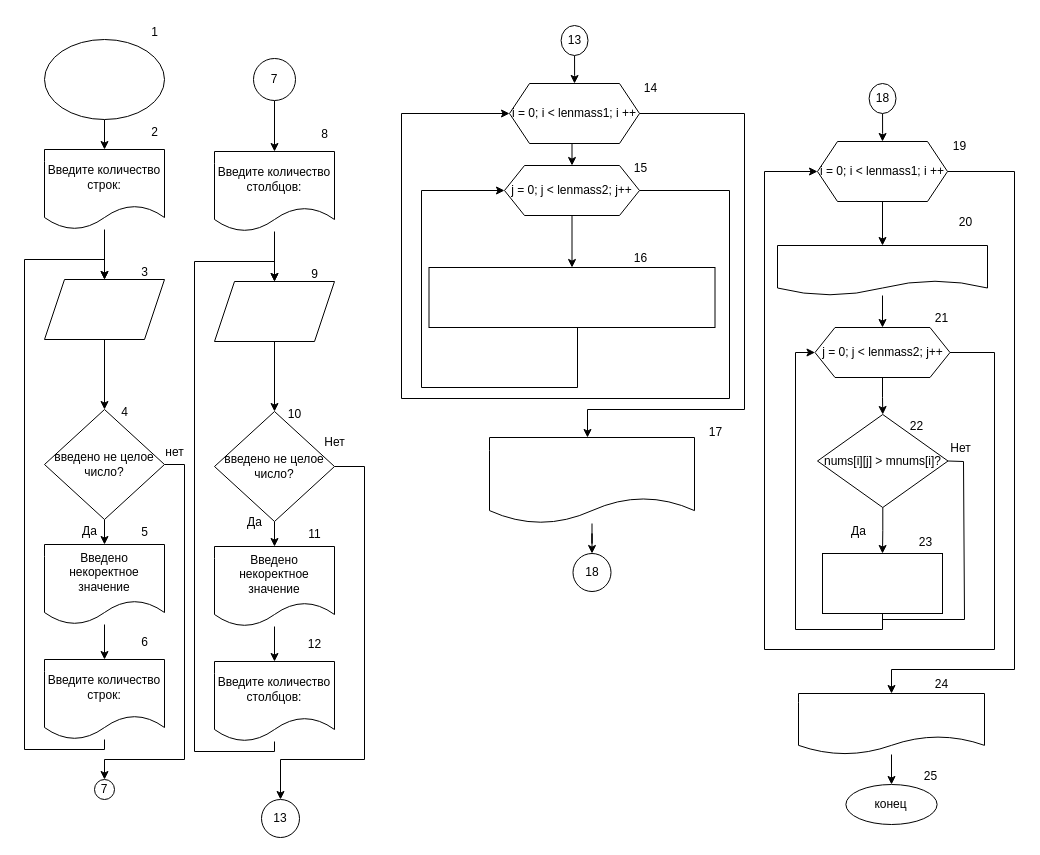
Some shapes in this 1040 by 855 pixel diagram are drawn without their labels. Here are the shapes that lost their labels. From the top down, the centre of each, then its label:
(104,79): Начало
(882,270): System.out.println(Arrays.toString(nums[i]));
(104,309): lenmass1
(274,311): lenmass2
(571,297): nums[i][j] = (int) (Math.random() * (20 - (1) + 1)) + (1);
(591,480): System.out.println("Сгенерированный двумерный массив:");
(882,583): mnums[i] = nums[i][j];
(891,723): System.out.println("Резултьат: \n"+Arrays.toString(mnums));
